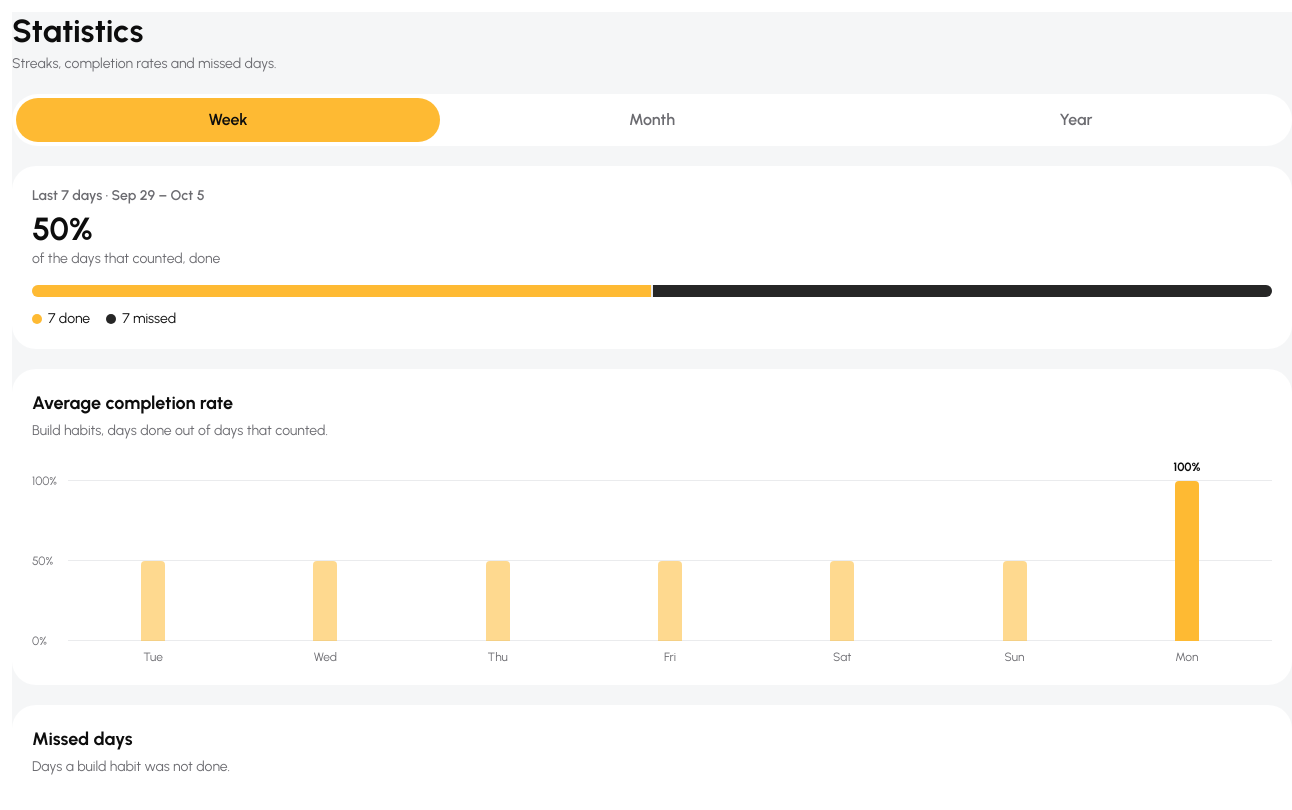
Test: statistics › switches between week, month and year, asking the server for each
The width and height of the screenshot is (1292, 810).
Click the tab "Month" at (652, 120), box [440,98,864,142]
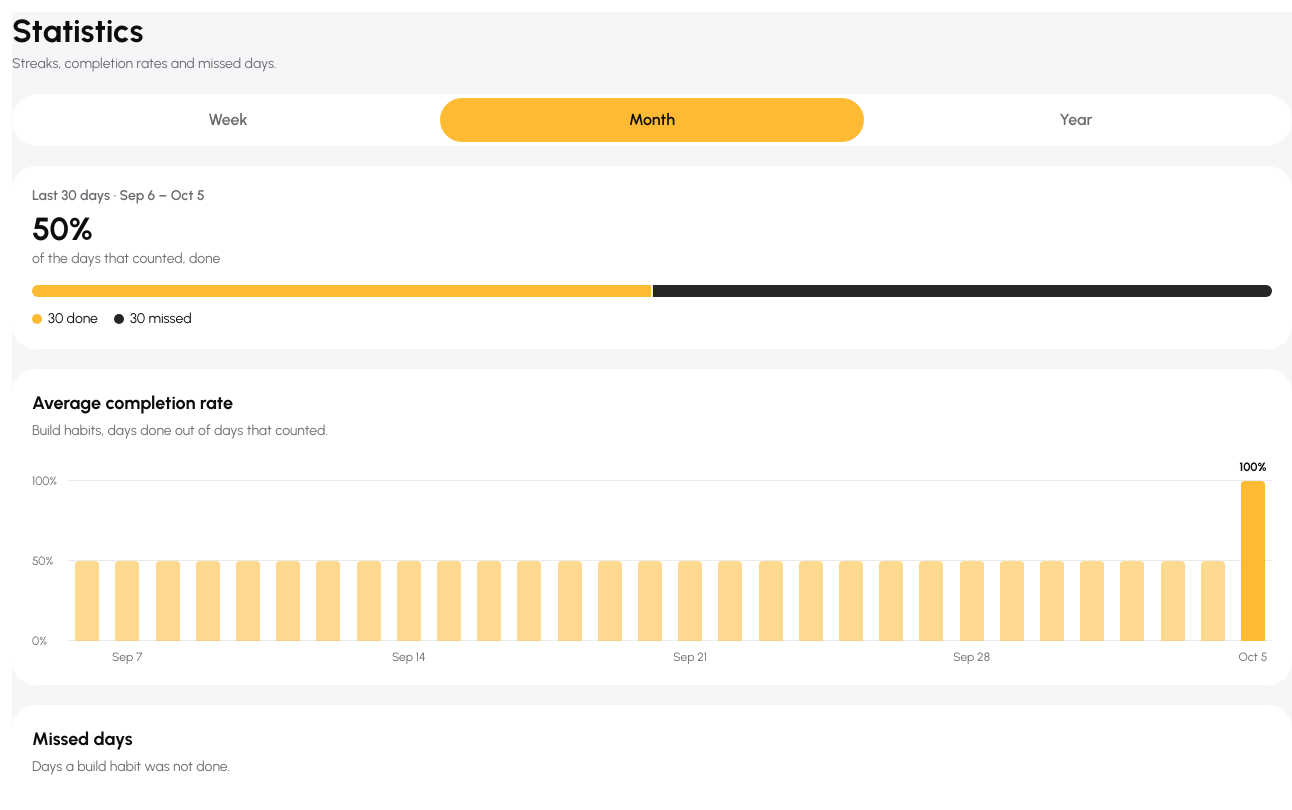
Expected: the text "Last 30 days" is shown, [32,187,110,204]
Click the tab "Year" at (1076, 120), box [864,98,1288,142]
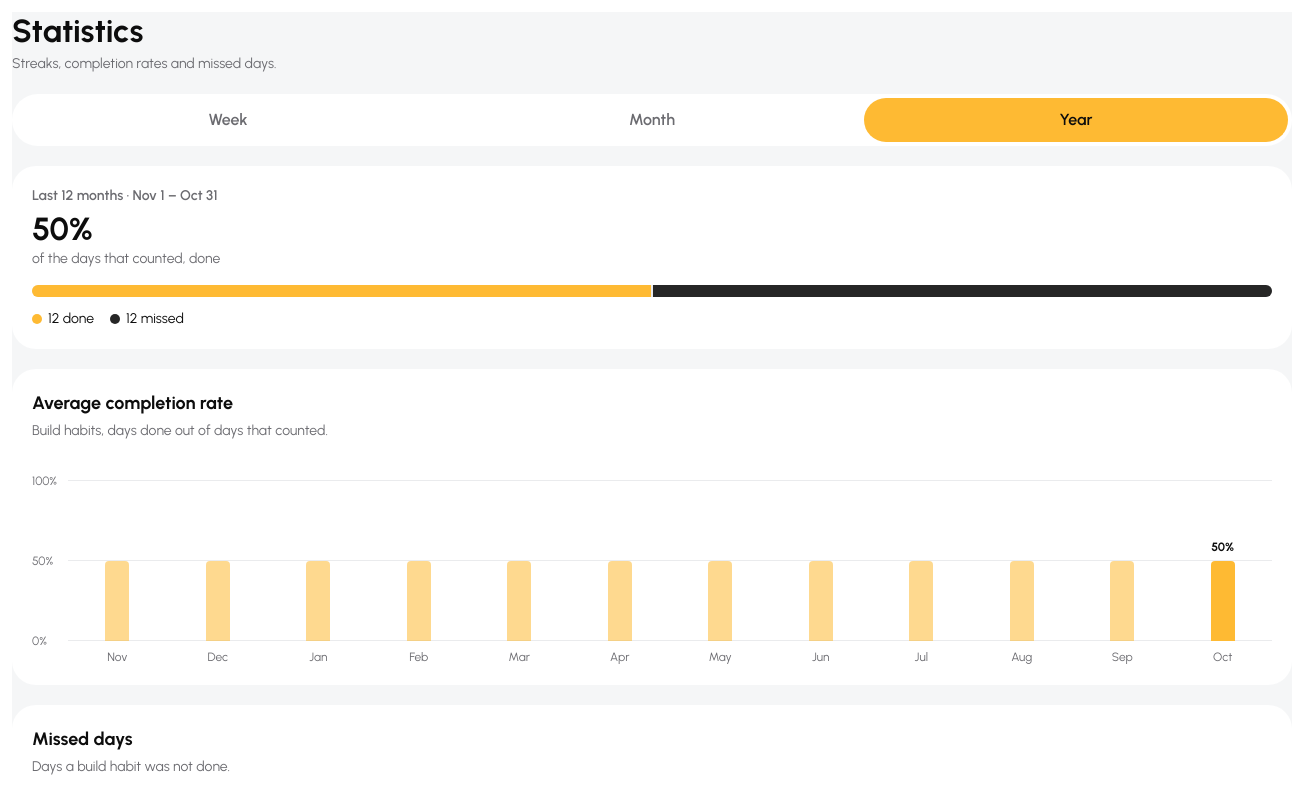
Expected: the text "50%" is shown, [32,210,93,248]
Expected: the text "Last 12 months" is shown, [32,187,123,204]
